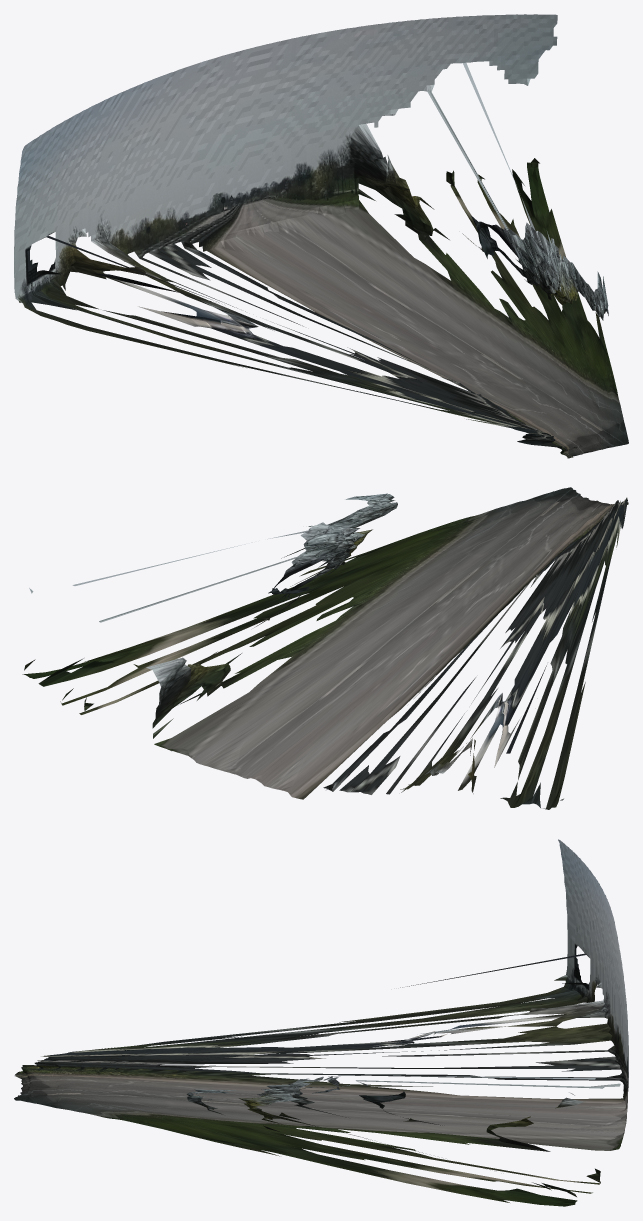
The picture shows the model from 3 angles, top to bottom: view 1: azimuth 30°, elevation 25°; view 2: azimuth 150°, elevation 25°; view 3: azimuth 270°, elevation 25°; orthographic projection. The views are drawn at different scales.
Parts seen in each view (by area): view 1: defaultobject; view 2: defaultobject; view 3: defaultobject.
Boxes of the visible parts, x1=… form: defaultobject: x1=14, y1=14, x2=628, y2=458; defaultobject: x1=22, y1=487, x2=628, y2=809; defaultobject: x1=14, y1=839, x2=628, y2=1206.
Bounding box in the file's own units: 40.56 × 13.98 × 44.79.
1 material, 1 textured.
